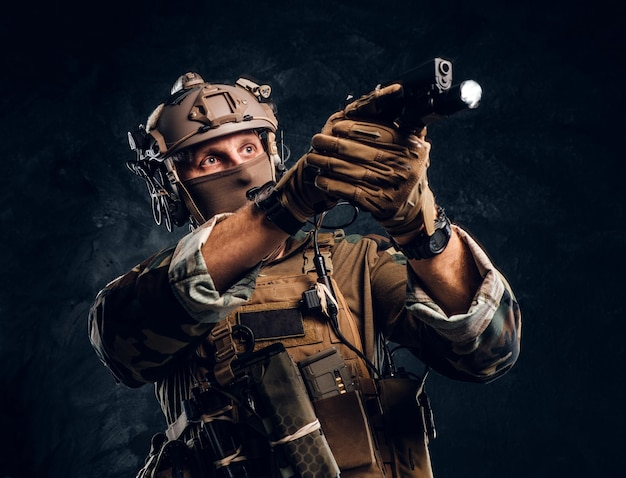gun: (346, 57, 483, 139)
